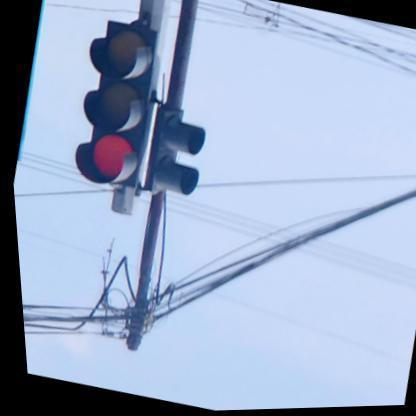red: (57, 15, 172, 192)
